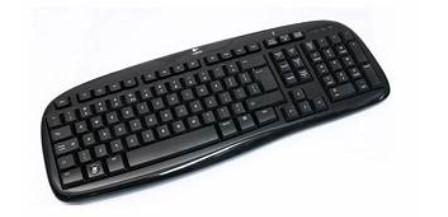Keyboard: (39, 20, 391, 204)
